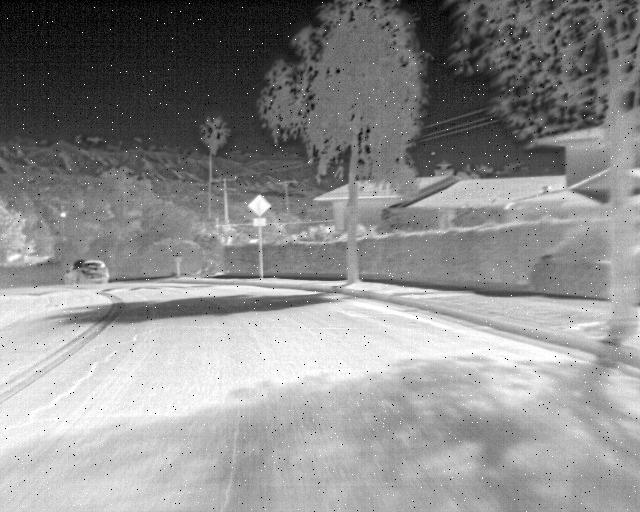car: (56, 257, 113, 295)
mail box: (160, 248, 193, 278)
